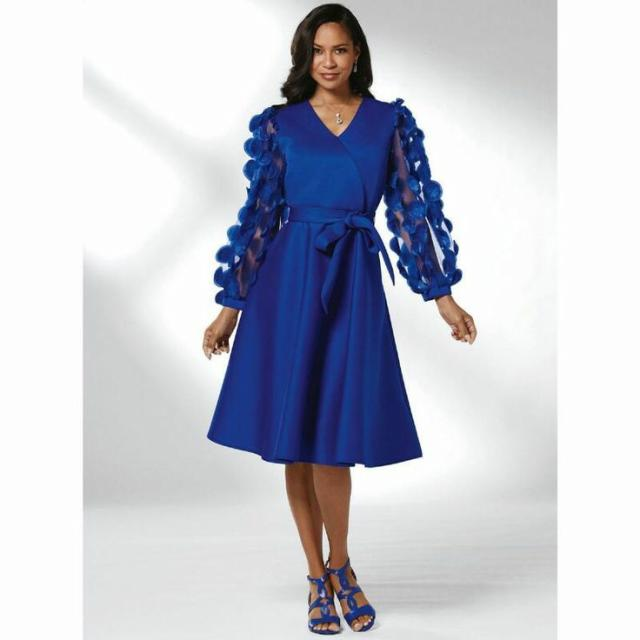female-dress: (218, 100, 472, 465)
